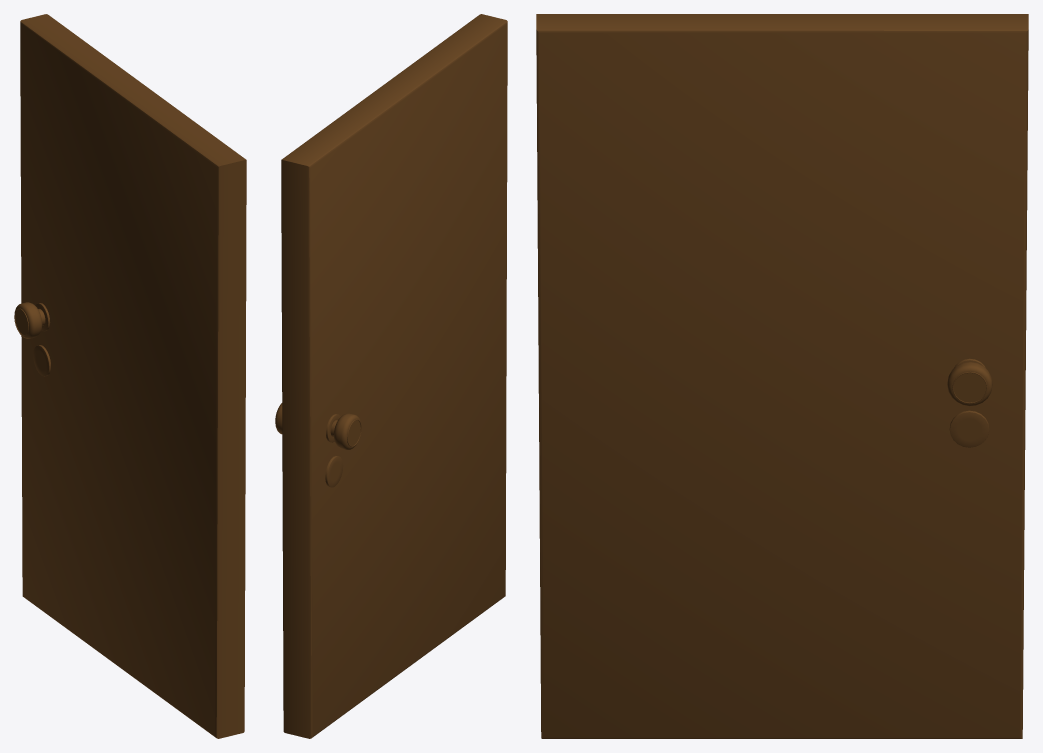
The model's file is door1.fbx.
The picture shows the model from 3 angles, left to right: view 1: azimuth 30°, elevation 25°; view 2: azimuth 150°, elevation 25°; view 3: azimuth 270°, elevation 25°; orthographic projection. The views are drawn at different scales.
Visible parts, largest first — view 1: Plane.004; view 2: Plane.004; view 3: Plane.004.
Part boxes in pixels (<box>): Plane.004: <box>14,14,246,738</box>; Plane.004: <box>275,14,507,738</box>; Plane.004: <box>536,14,1028,738</box>.
Bounding box in the file's own units: 39.93 × 302 × 190.
